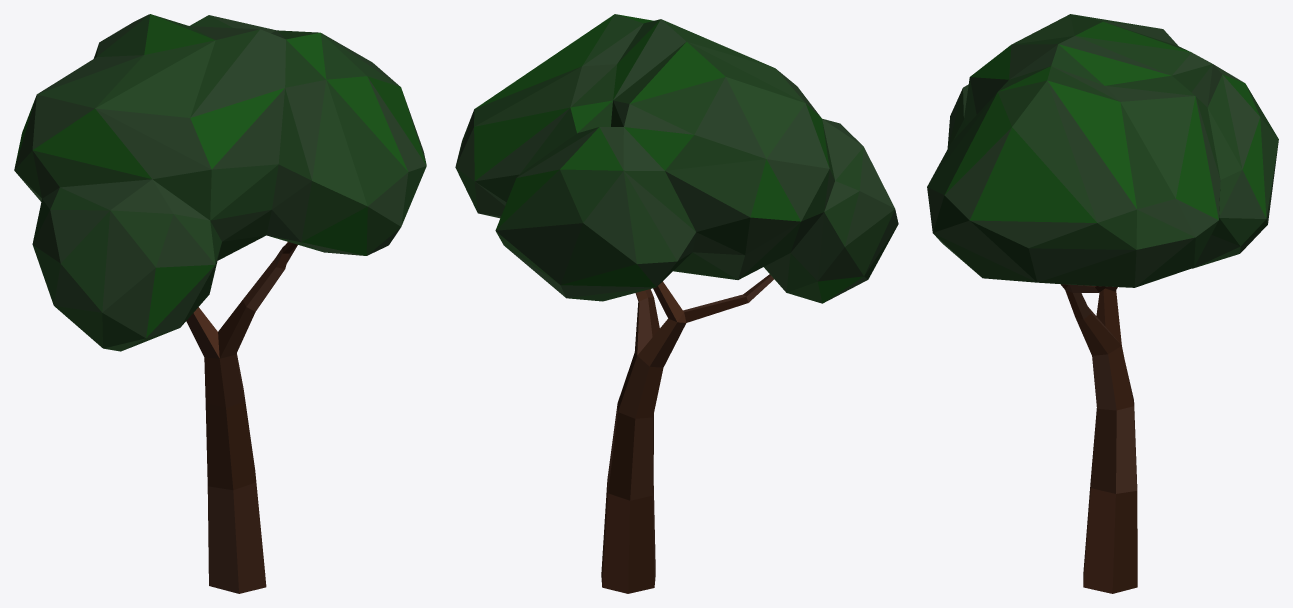
File: tree.glb
3 renders of one model, left to right at view 1: azimuth 30°, elevation 25°; view 2: azimuth 150°, elevation 25°; view 3: azimuth 270°, elevation 25°, orthographic. The views are drawn at different scales.
Visible parts, largest first — view 1: Cube; view 2: Cube; view 3: Cube.
Part boxes in pixels (box(x1,y1,x2,y2)): Cube: box(14, 14, 426, 593); Cube: box(455, 14, 898, 593); Cube: box(927, 14, 1278, 593).
Bounding box in the file's own units: 8.11 × 11.35 × 6.77.
1 material, 1 textured.
